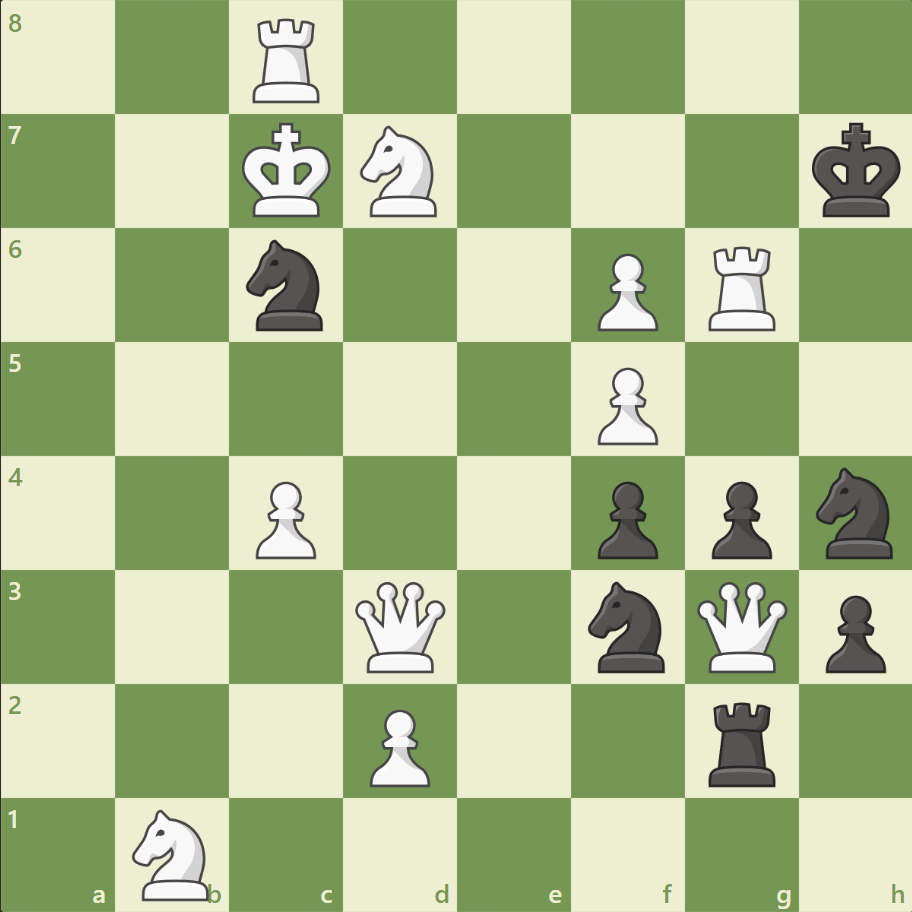K: (238, 117, 338, 225)
N: (351, 121, 449, 223), (124, 802, 222, 904)
P: (247, 473, 322, 564), (588, 246, 662, 337), (588, 359, 662, 450), (361, 700, 435, 791)
Q: (351, 576, 450, 676), (691, 576, 790, 676)
R: (246, 12, 329, 109), (700, 239, 783, 336)
k: (806, 117, 906, 225)
n: (238, 234, 335, 337), (806, 461, 903, 564), (579, 575, 676, 677)
p: (701, 473, 776, 564), (588, 473, 662, 564), (815, 586, 889, 677)
r: (700, 693, 783, 790)
